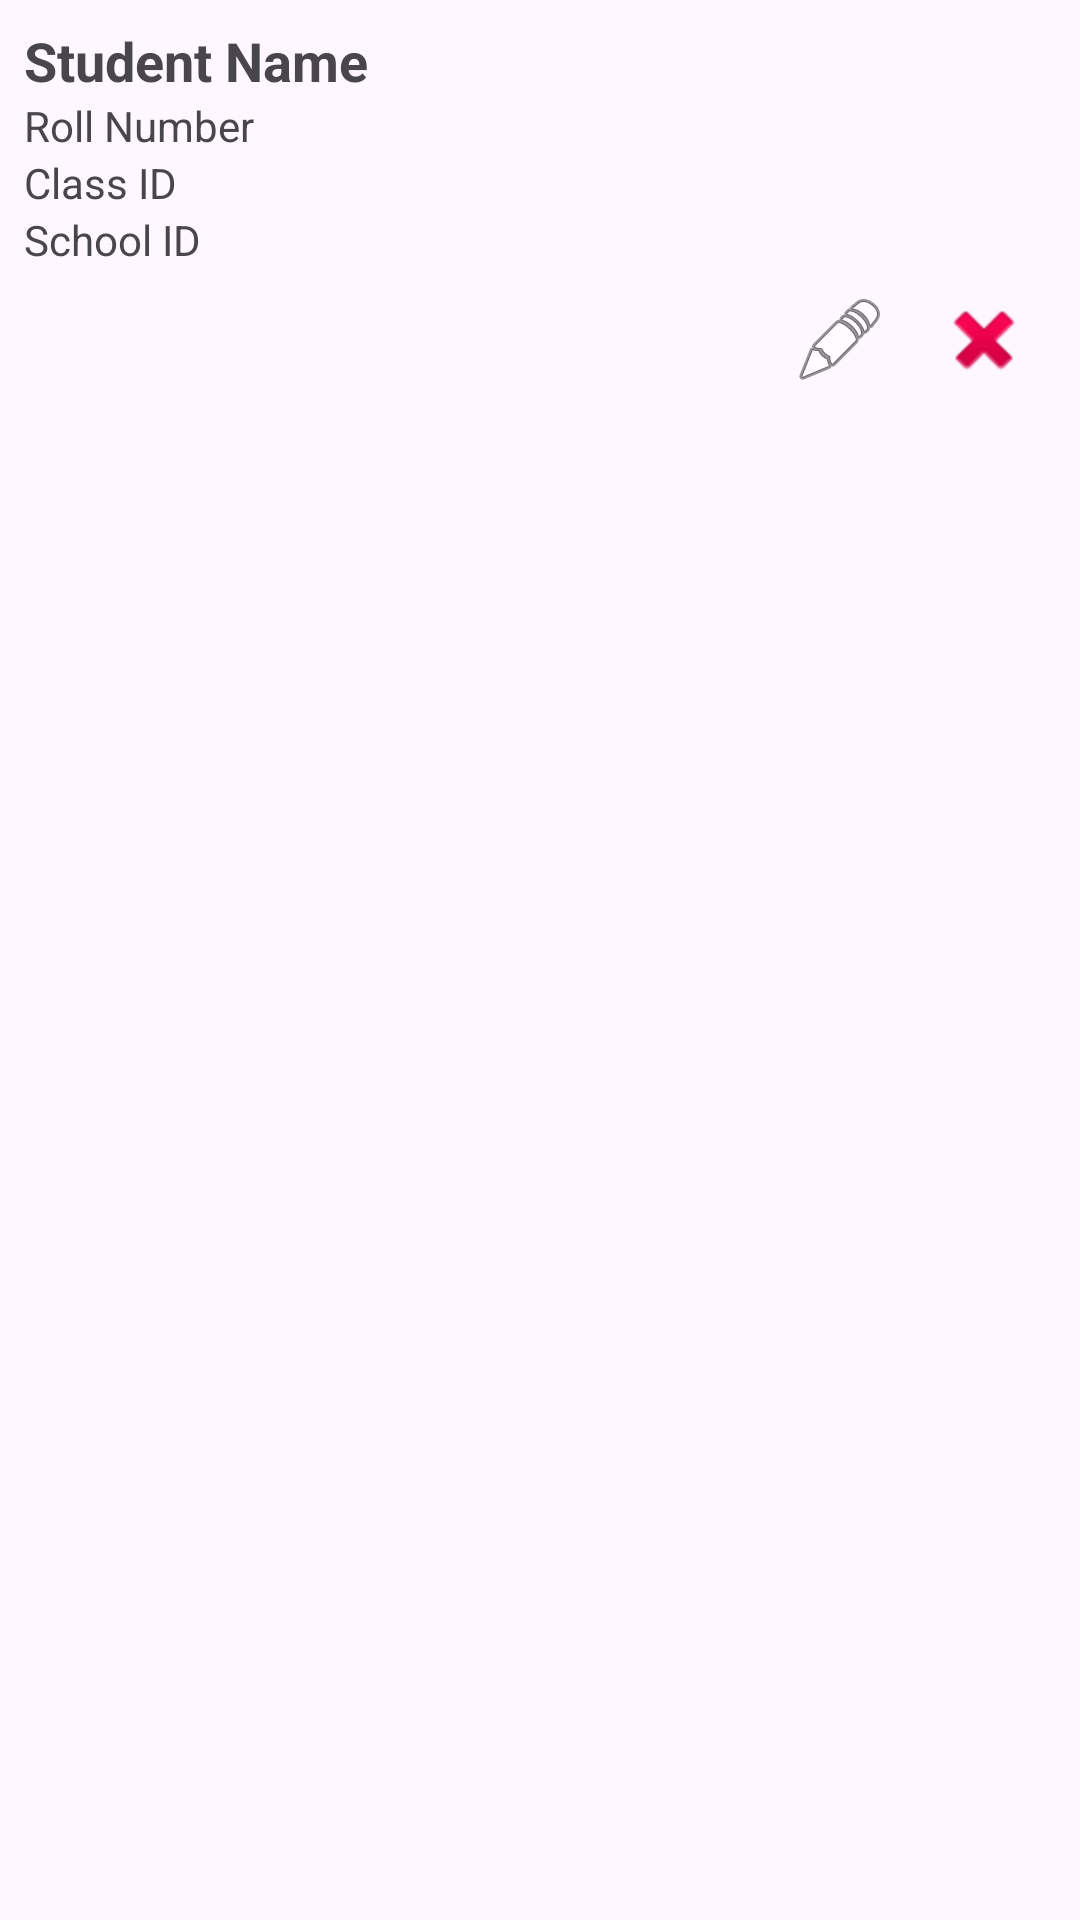

Where icons sit on this 1080*1920 app screen, as (x1, y1, x2, y2):
delete: (953, 311, 1015, 370)
edit: (799, 299, 880, 380)
